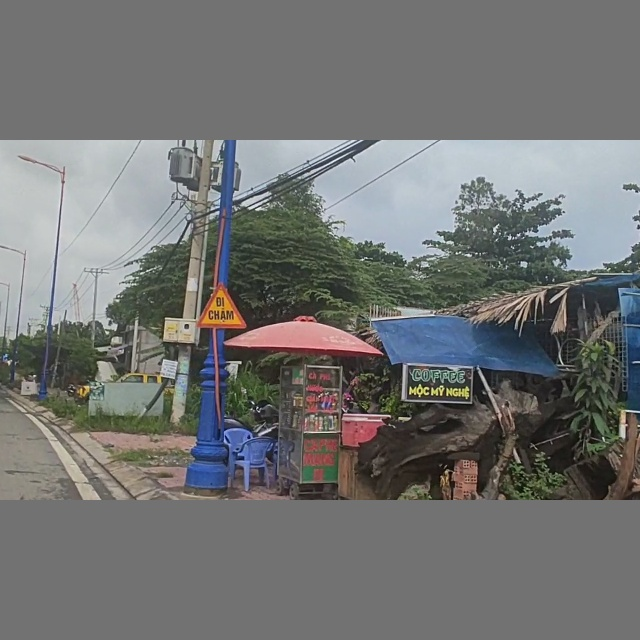W.245a: (195, 283, 247, 331)
